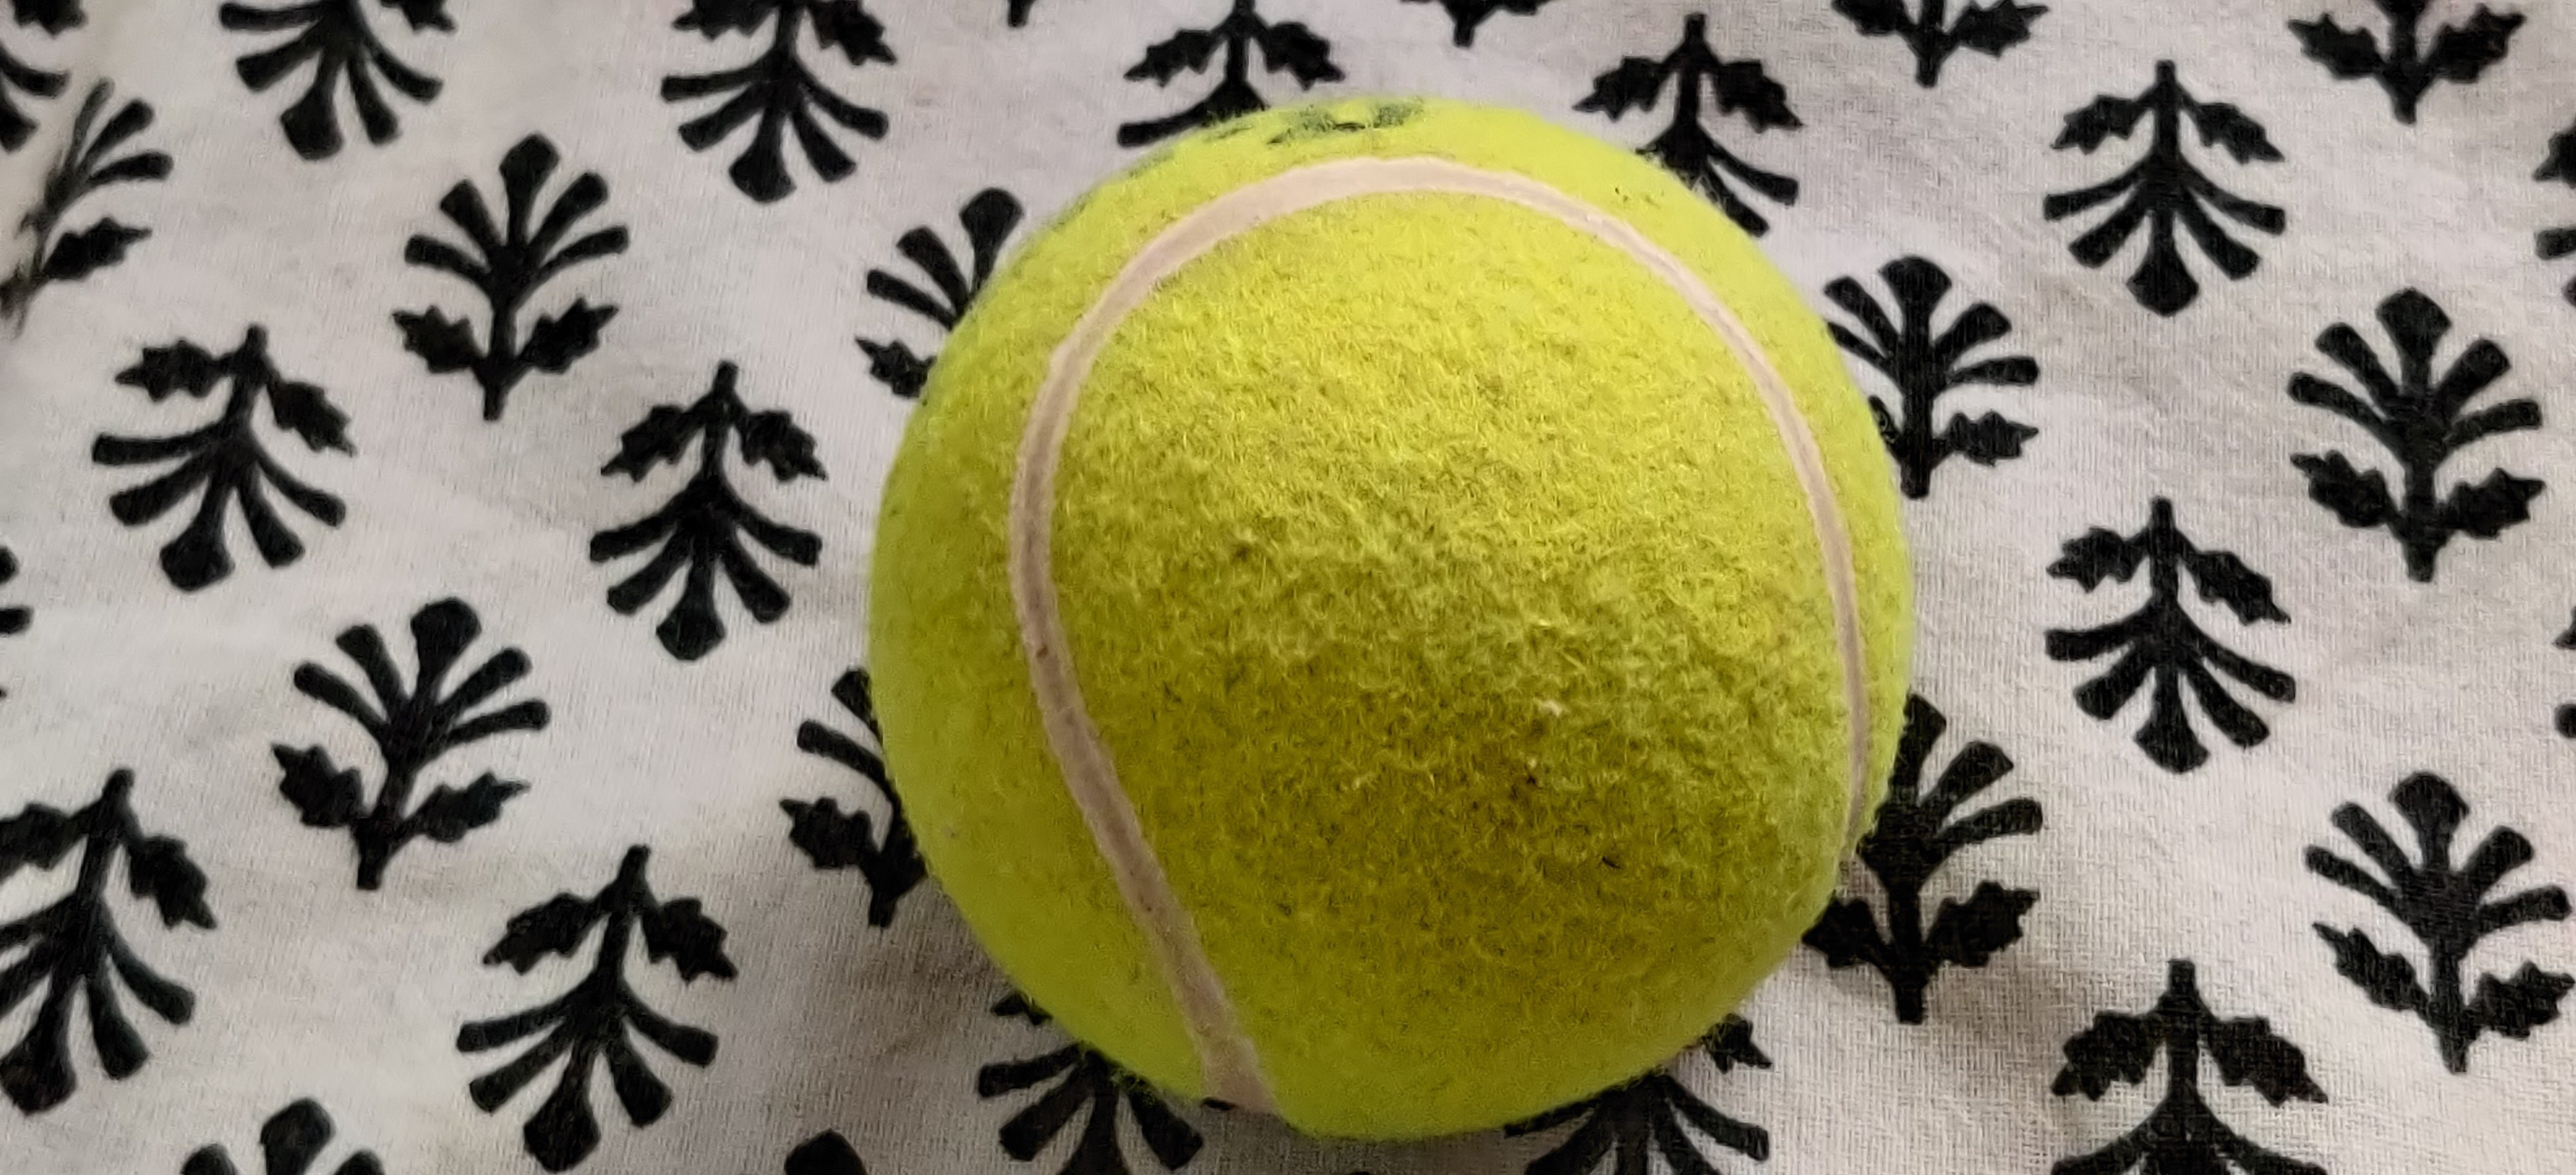Tennis-Ball: (867, 95, 1922, 1139)
